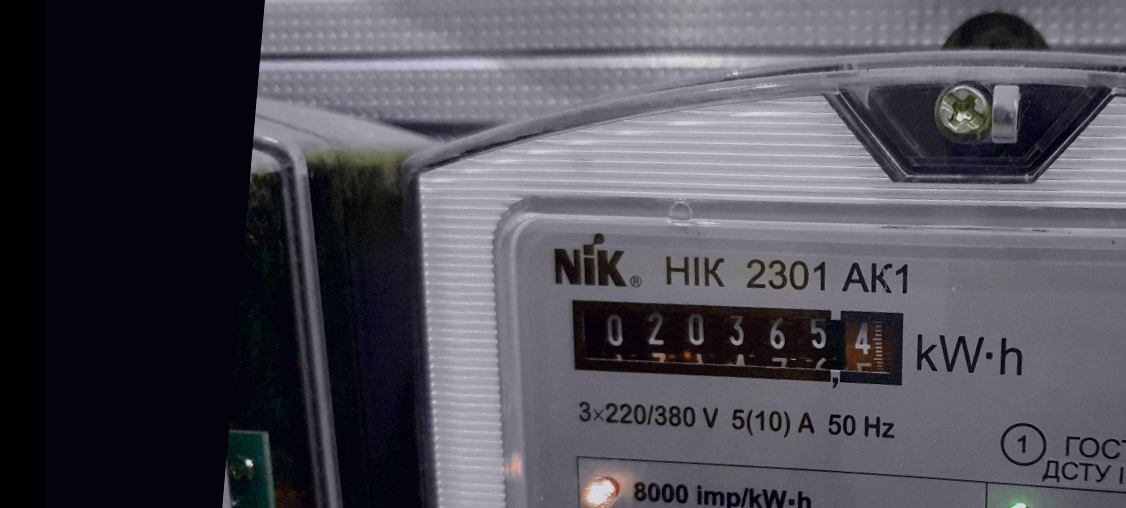0: (604, 310, 628, 346), (686, 309, 708, 347)
2: (644, 309, 669, 346)
3: (727, 310, 748, 346)
4: (853, 319, 875, 354)
5: (808, 315, 830, 349)
6: (767, 313, 790, 350)
screen: (551, 273, 927, 406)
